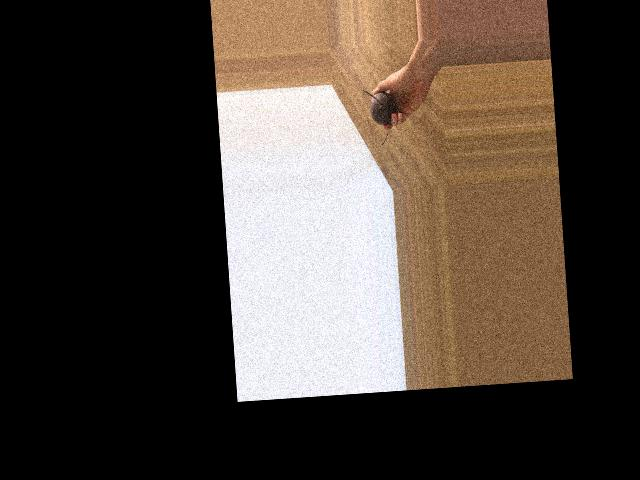beet: (362, 88, 398, 146)
